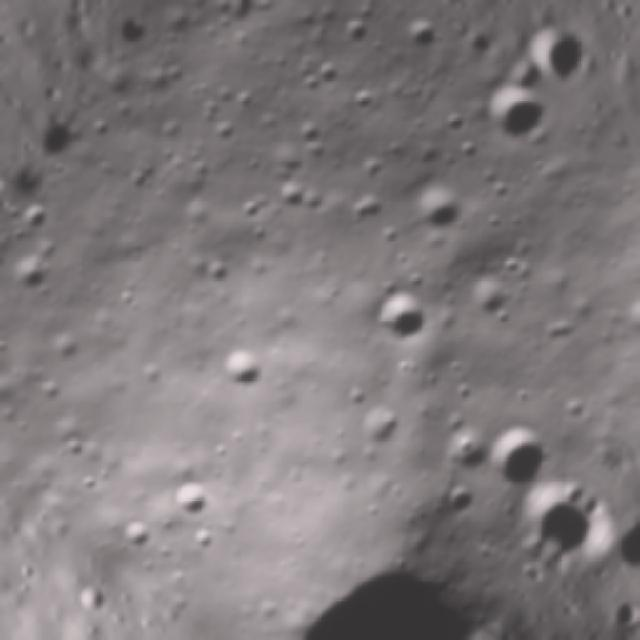crater: (255, 504, 510, 640), (452, 58, 566, 168), (506, 463, 588, 549), (476, 412, 558, 497), (361, 280, 445, 360), (402, 172, 481, 246), (198, 331, 274, 407), (348, 392, 412, 458), (2, 245, 64, 308), (104, 504, 165, 564), (456, 272, 515, 330), (164, 472, 221, 528), (42, 120, 92, 177), (395, 8, 447, 60), (433, 475, 484, 528), (329, 12, 378, 62), (182, 516, 228, 562), (615, 284, 640, 348), (456, 623, 493, 640)
